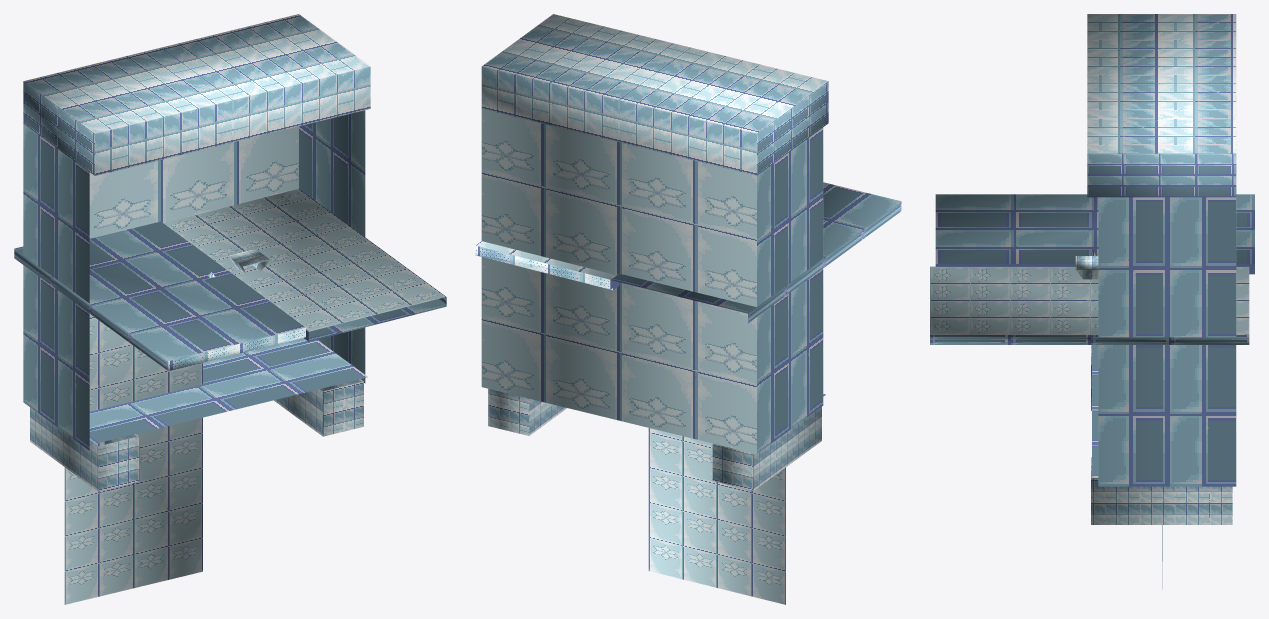
Rendered from 3150IMFY03_02.gltf.
3 views of the same model, side by side, from view 1: azimuth 30°, elevation 25°; view 2: azimuth 150°, elevation 25°; view 3: azimuth 270°, elevation 25° (orthographic). The views are drawn at different scales.
Parts seen in each view (by area): view 1: 3150IMFY03_02; view 2: 3150IMFY03_02; view 3: 3150IMFY03_02.
Boxes of the visible parts, box(x1,y1,x2,y2) form: 3150IMFY03_02: box(14, 14, 446, 604); 3150IMFY03_02: box(475, 14, 901, 604); 3150IMFY03_02: box(930, 14, 1254, 589).
Size of the model in its own units: 1.57 by 2.73 by 1.55.
3 materials, 3 textured.
